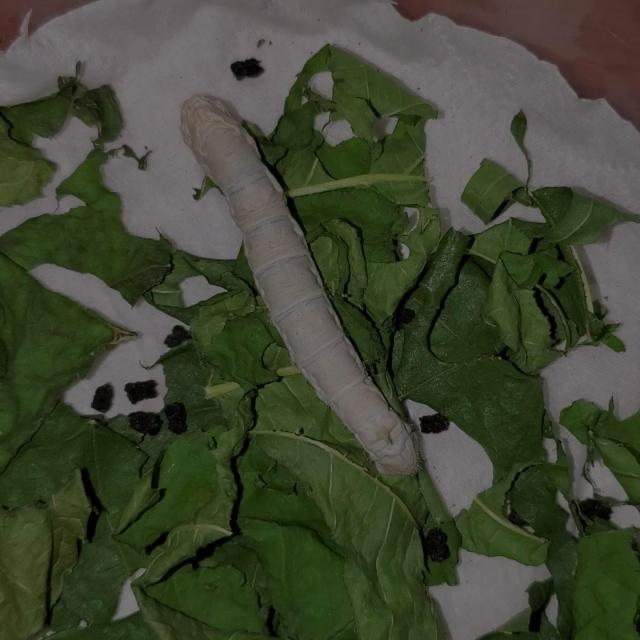Healthy: (172, 84, 429, 486)
